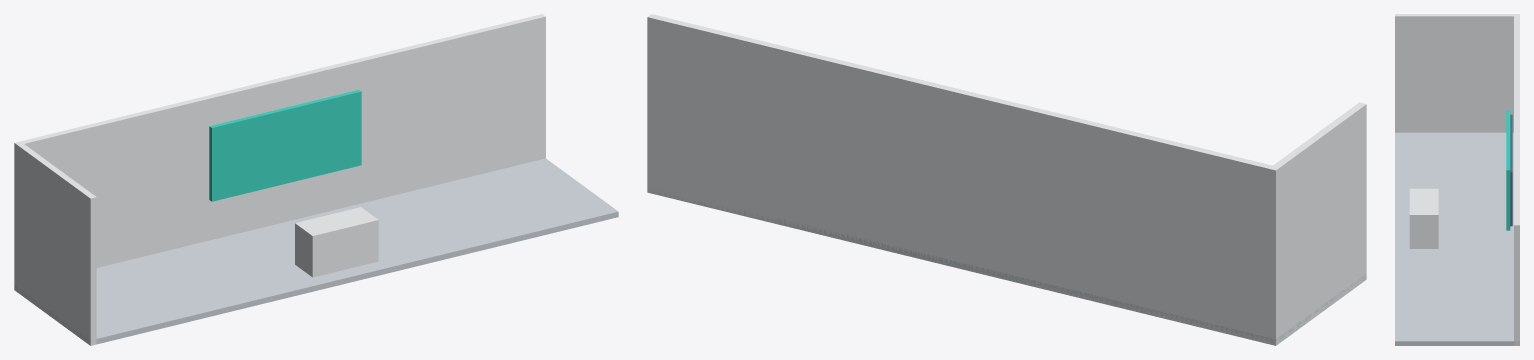
3 views of the same model, side by side, from view 1: azimuth 30°, elevation 25°; view 2: azimuth 150°, elevation 25°; view 3: azimuth 270°, elevation 25° (orthographic). The views are drawn at different scales.
Visible parts, largest first — view 1: Exhibition Booth Concept; view 2: Exhibition Booth Concept; view 3: Exhibition Booth Concept.
Boxes of the visible parts, x1=… form: Exhibition Booth Concept: x1=14, y1=14, x2=618, y2=345; Exhibition Booth Concept: x1=647, y1=14, x2=1366, y2=345; Exhibition Booth Concept: x1=1395, y1=14, x2=1519, y2=345.
Bounding box in the file's own units: 12 × 3.2 × 3.
